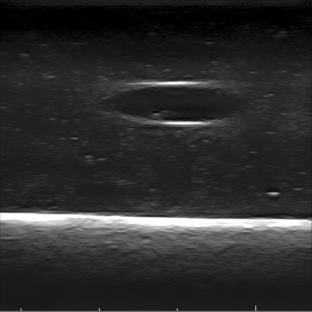vessel: (109, 80, 243, 128)
